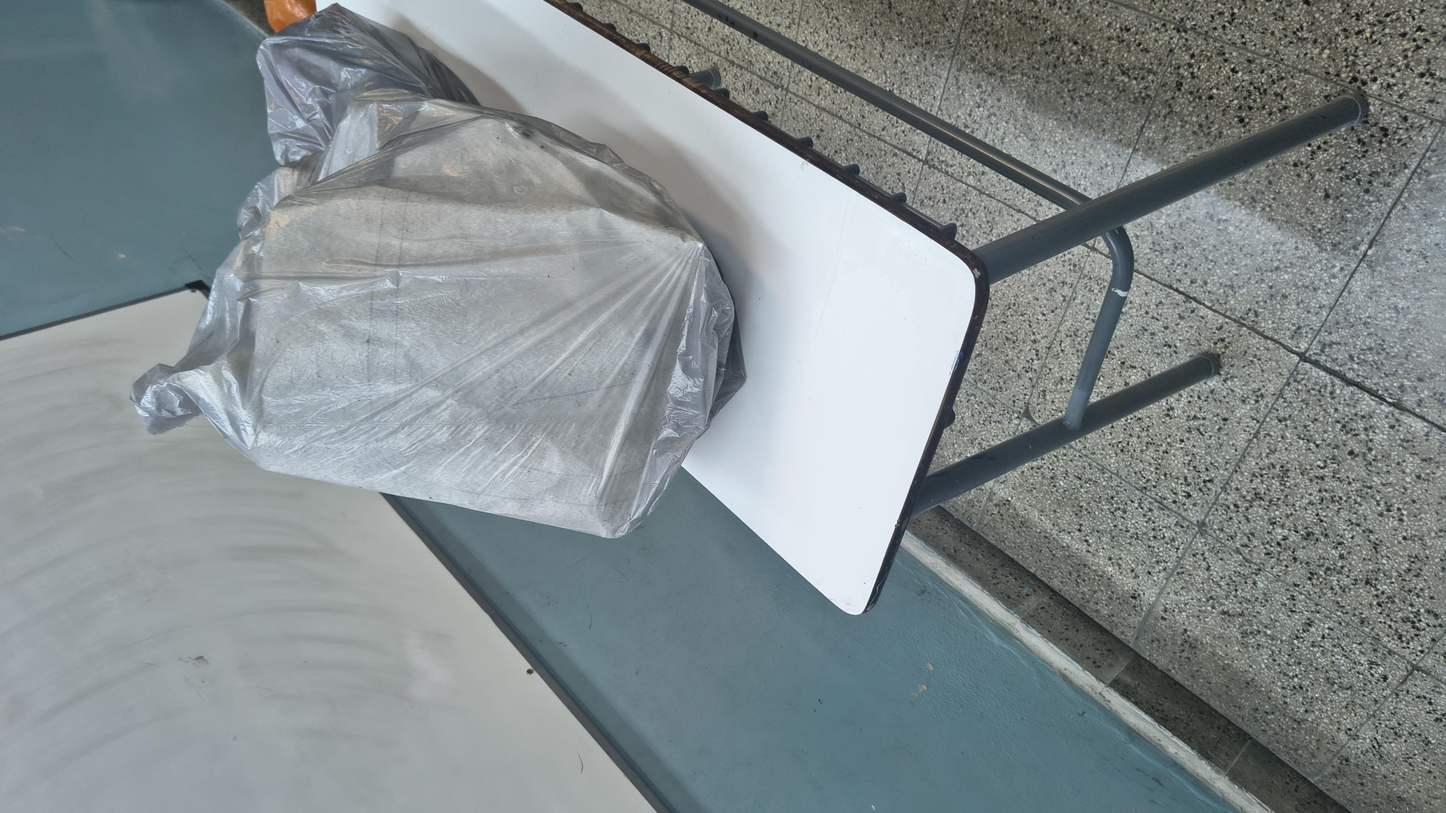Garbage: (477, 58, 1381, 429), (1004, 105, 1446, 266)
